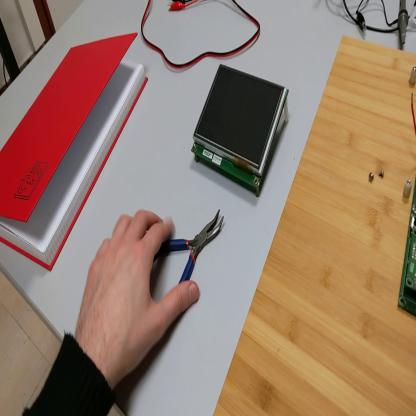hand: (77, 209, 198, 382)
low voltage board: (398, 93, 416, 321)
oscilloscope probe tip: (397, 3, 412, 49)
pliers: (154, 212, 224, 289)
register: (2, 32, 151, 270)
working area: (214, 35, 416, 414)
